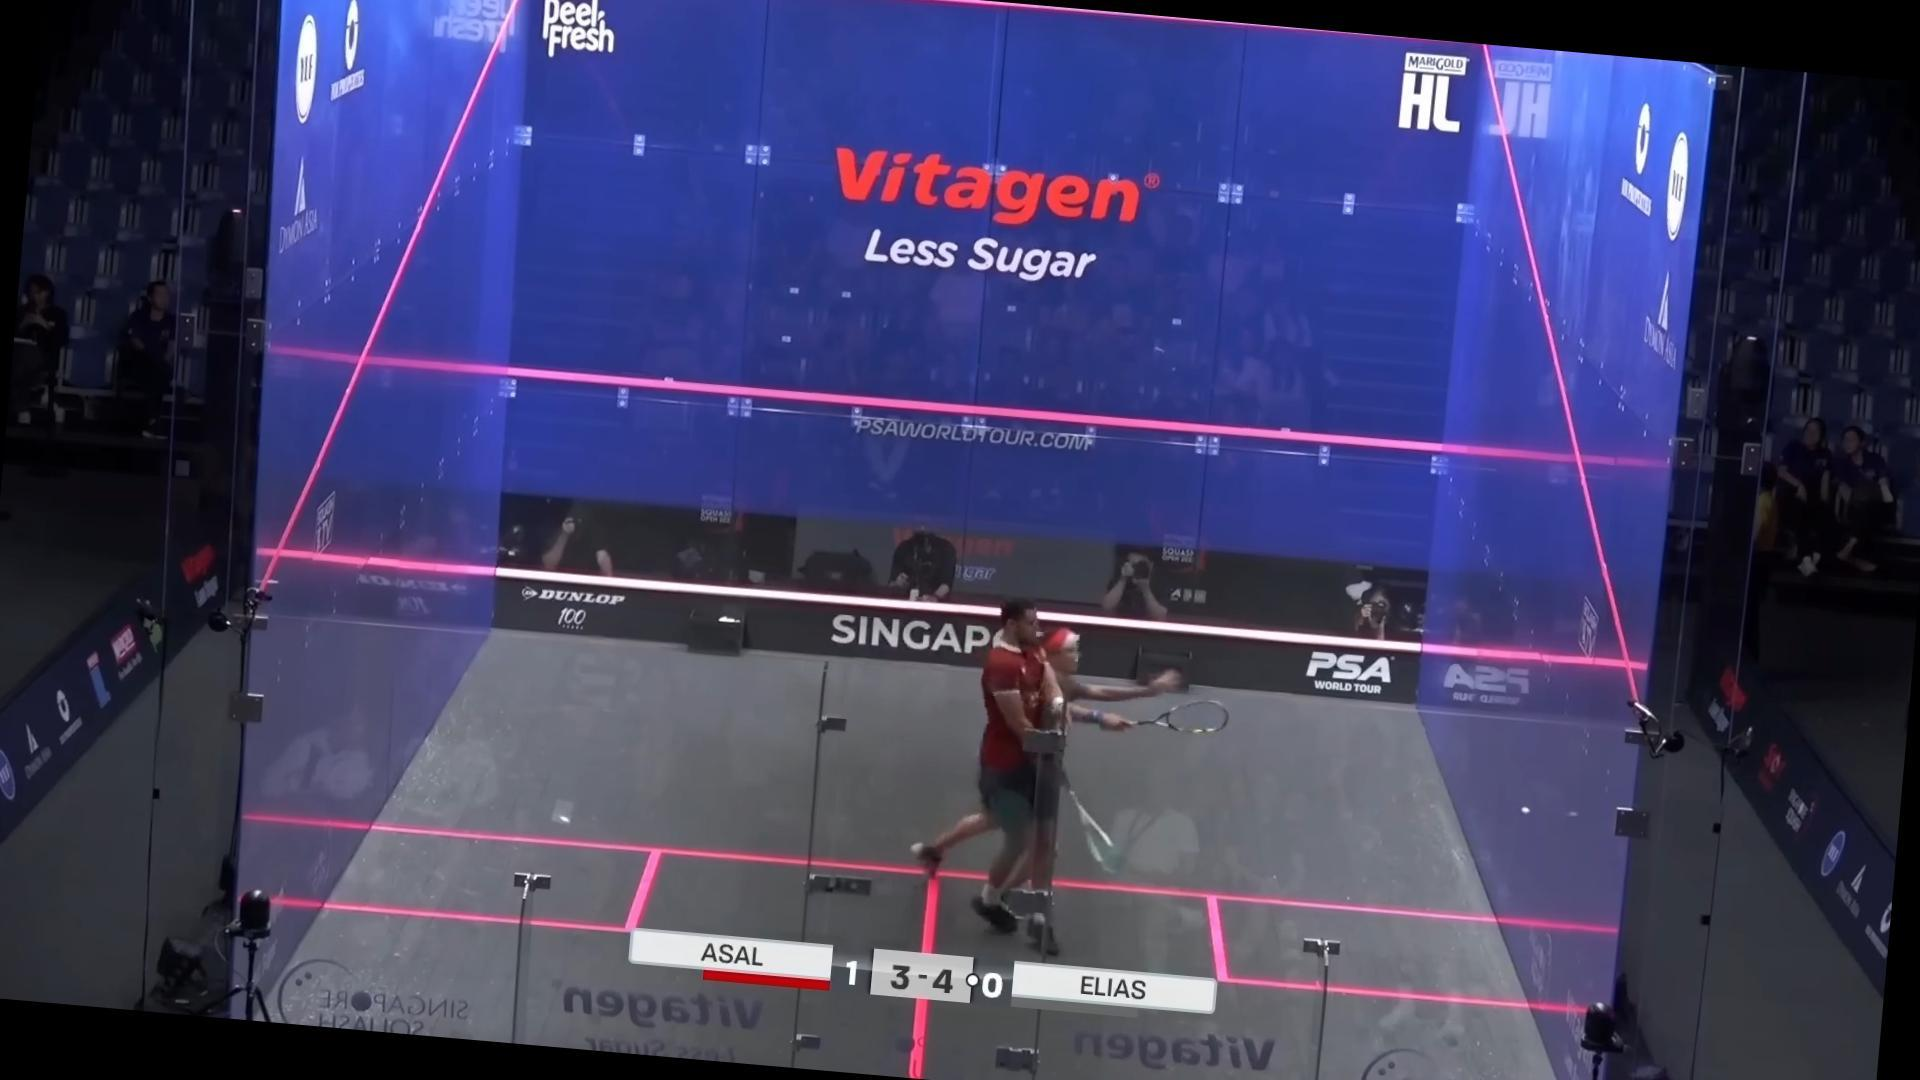Squash-Ball: (1501, 790, 1549, 832)
